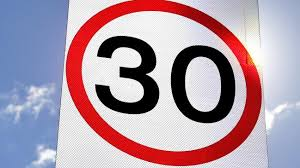sp30: (69, 4, 256, 157)
